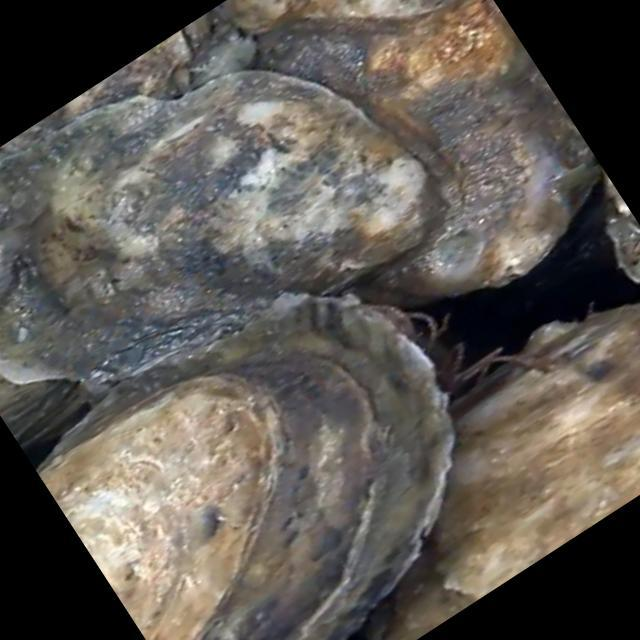Oyster- Indeterminate: (0, 68, 461, 384), (45, 296, 457, 640), (366, 301, 640, 640), (0, 11, 213, 152), (220, 0, 456, 30), (0, 374, 93, 444)
